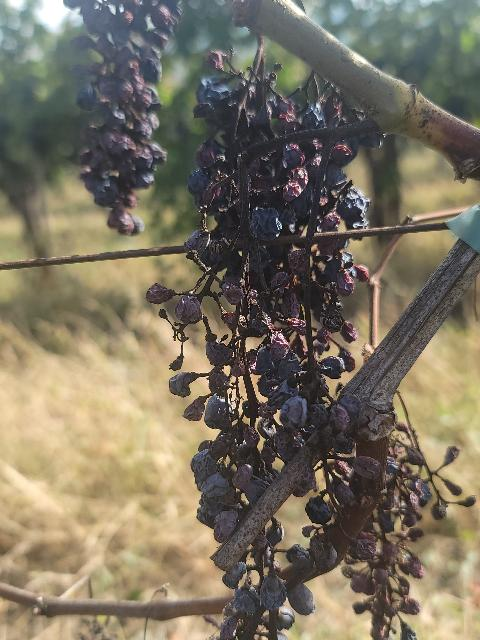grapes: (170, 72, 381, 574), (342, 399, 461, 640), (65, 0, 181, 235)
